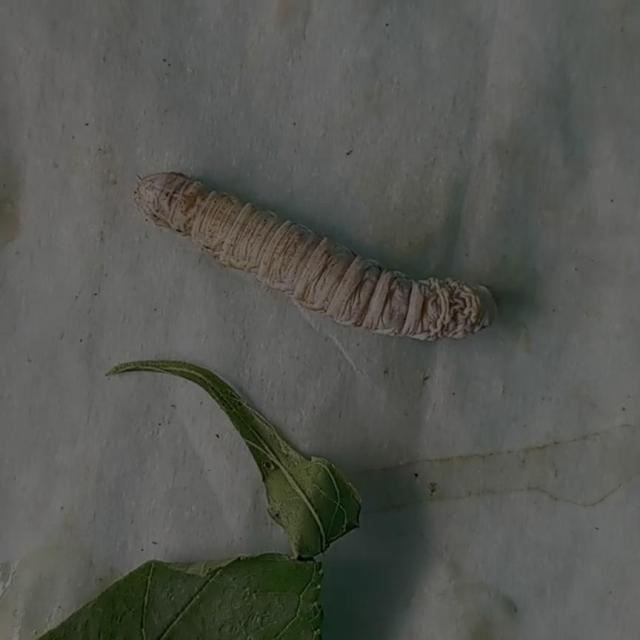Grasserie: (116, 141, 524, 372)
